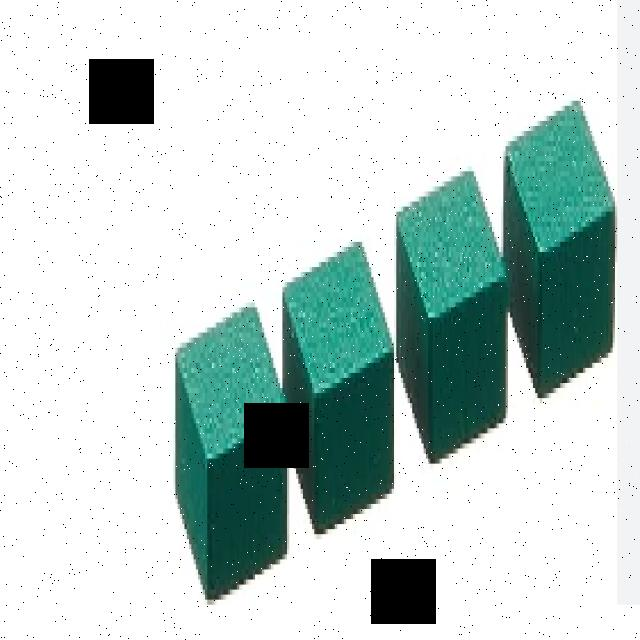green cube: (174, 302, 289, 605), (281, 237, 396, 536), (503, 98, 617, 399), (395, 167, 508, 465)
